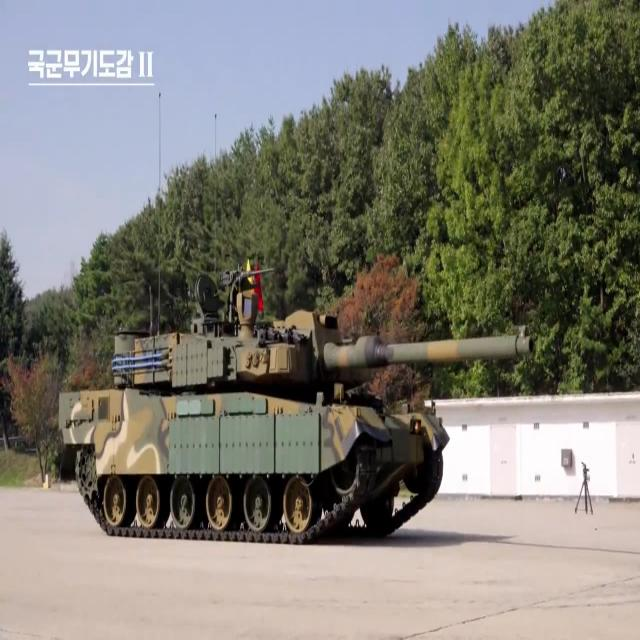korea tank: (57, 262, 535, 548)
